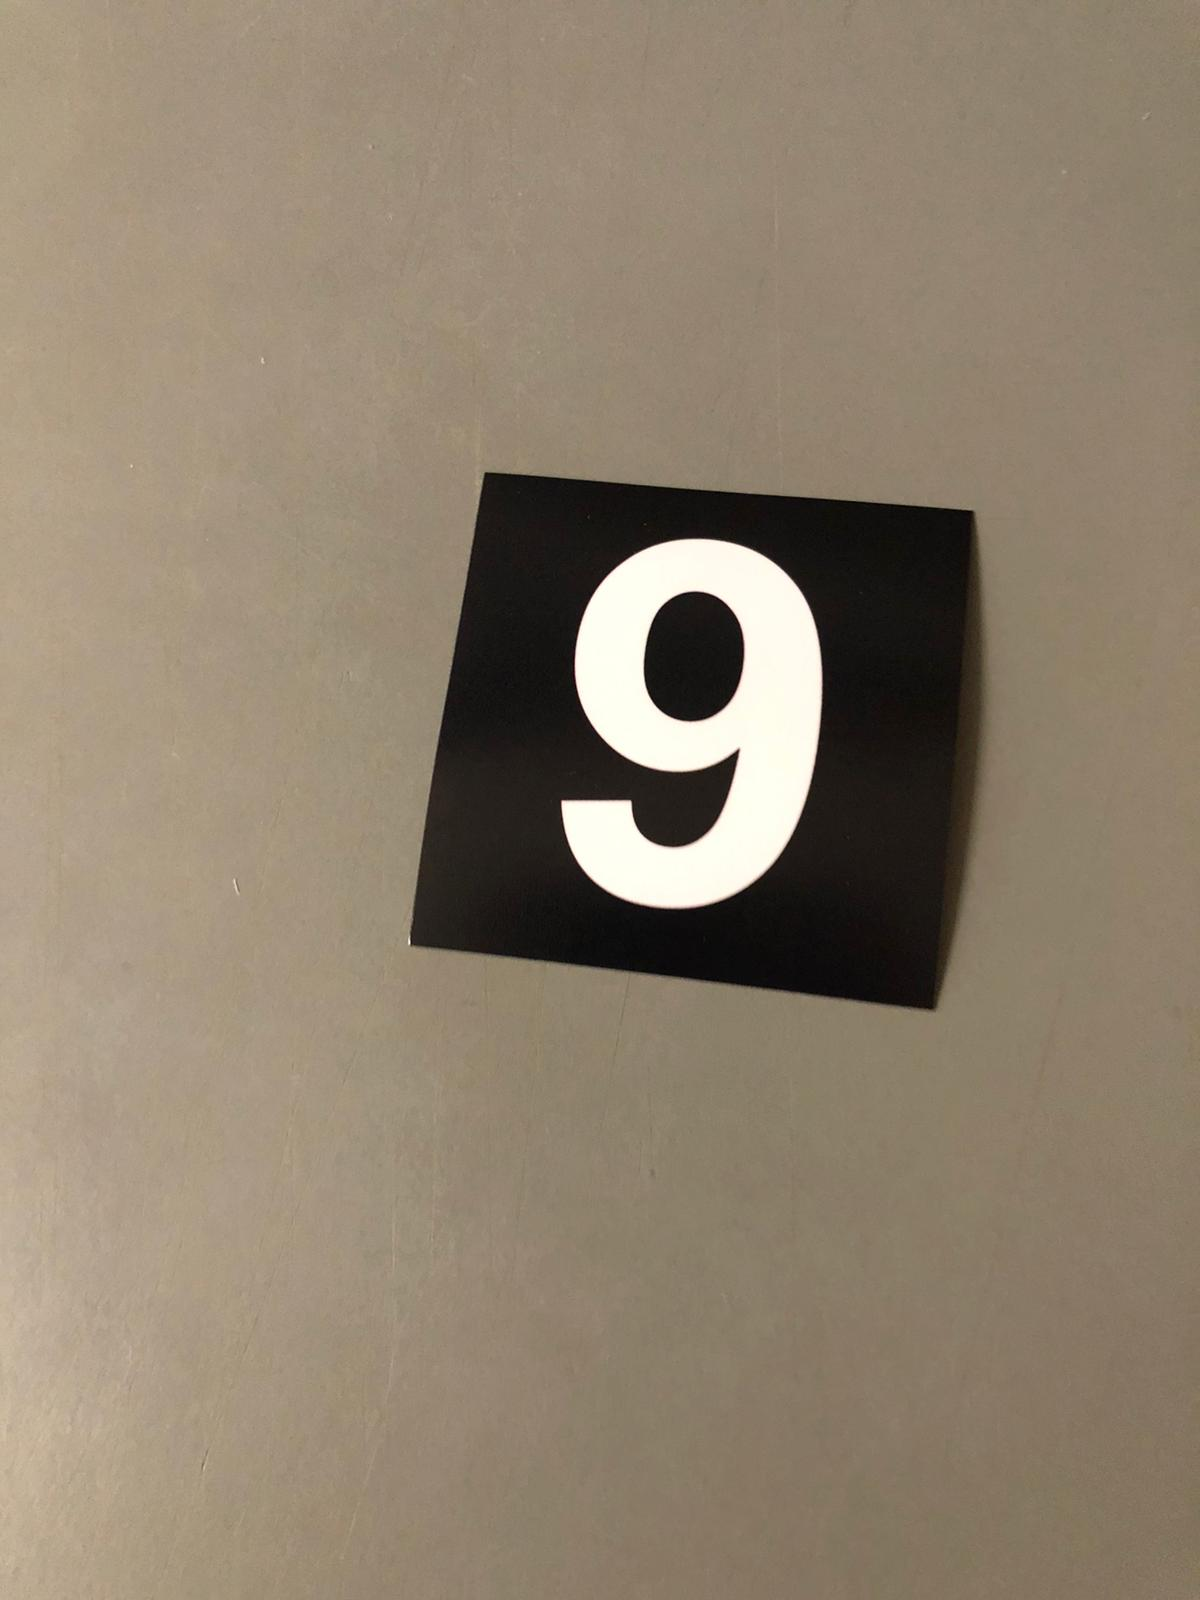Number 9: (493, 501, 908, 950)
